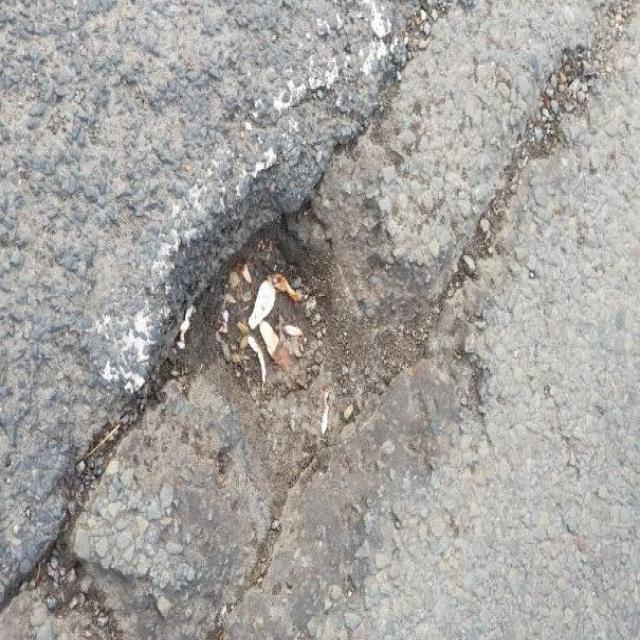Pothole: (110, 103, 494, 488)
